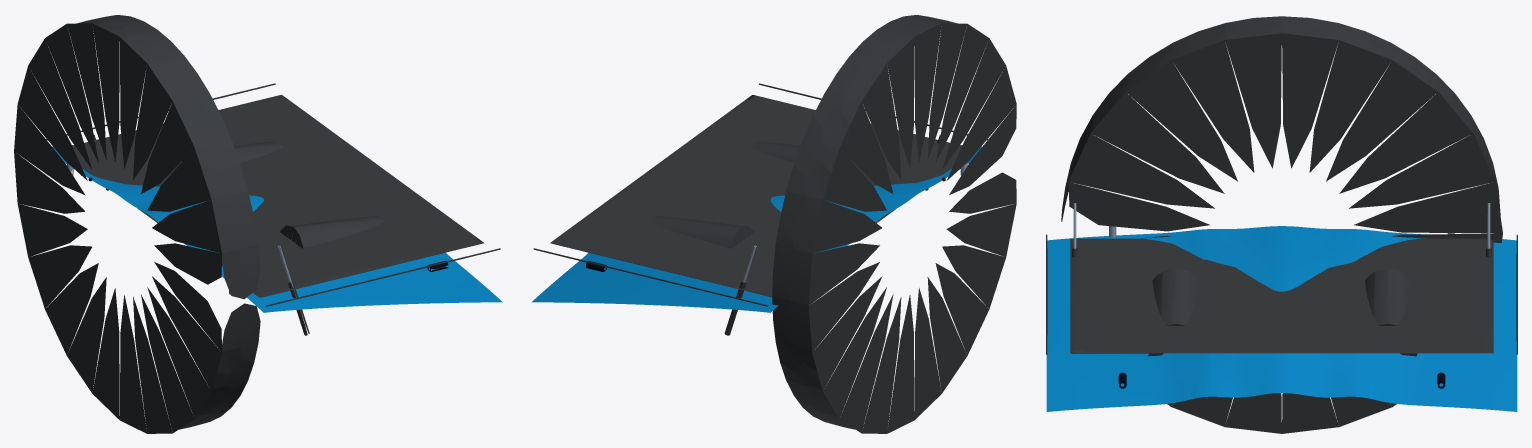
The model's file is hood.glb.
The picture shows the model from 3 angles, left to right: view 1: azimuth 30°, elevation 25°; view 2: azimuth 150°, elevation 25°; view 3: azimuth 270°, elevation 25°; orthographic projection. The views are drawn at different scales.
Visible parts, largest first — view 1: Block04_ProductionSculptedHood; view 2: Block04_ProductionSculptedHood; view 3: Block04_ProductionSculptedHood.
Part boxes in pixels (x1=…): Block04_ProductionSculptedHood: x1=14, y1=15, x2=502, y2=433; Block04_ProductionSculptedHood: x1=532, y1=15, x2=1016, y2=433; Block04_ProductionSculptedHood: x1=1046, y1=16, x2=1517, y2=433.
Size of the model in its own units: 0.8599 by 1.17 by 1.24.
